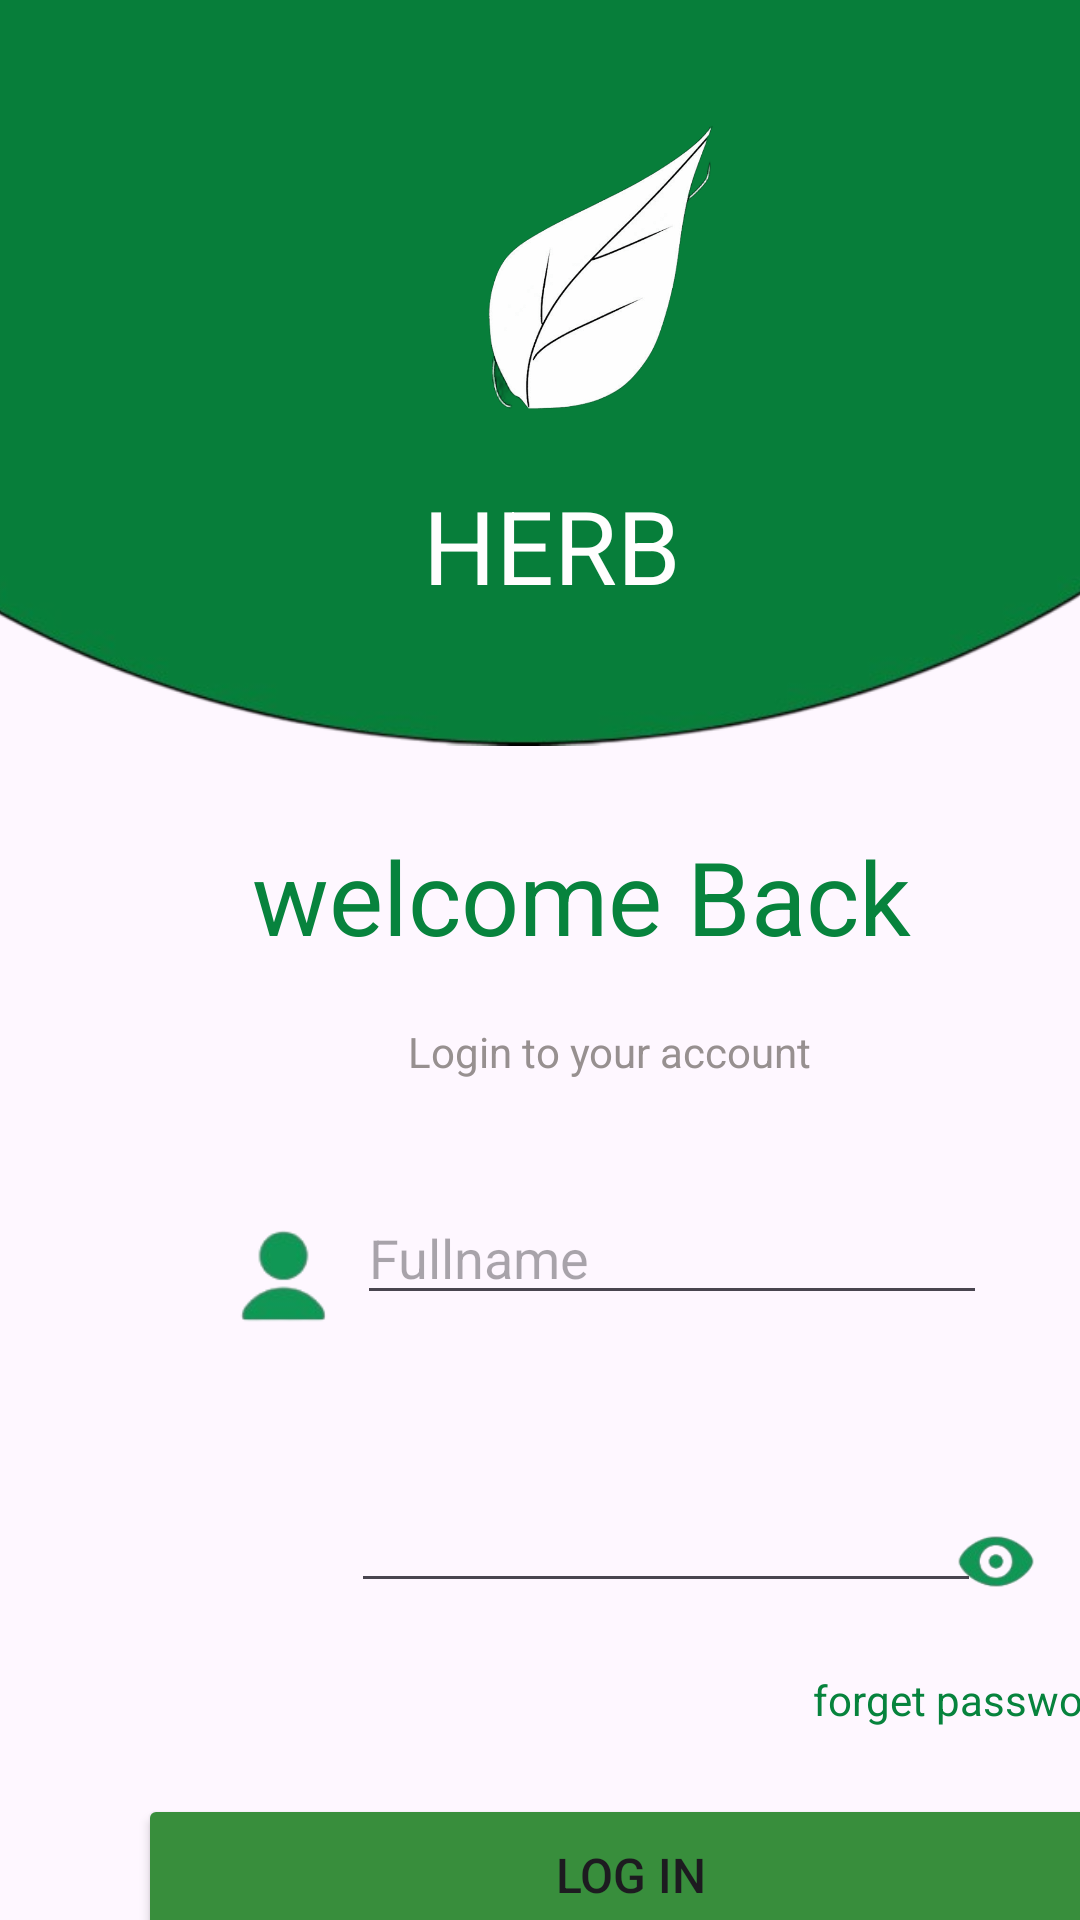

Named icons in this screenshot (1080x1920) and their bounding boxes, Rect(x1, y1, x2, y2):
eye photoroom: Rect(924, 1536, 1034, 1587)
profile photoroom: Rect(241, 1231, 325, 1321)
